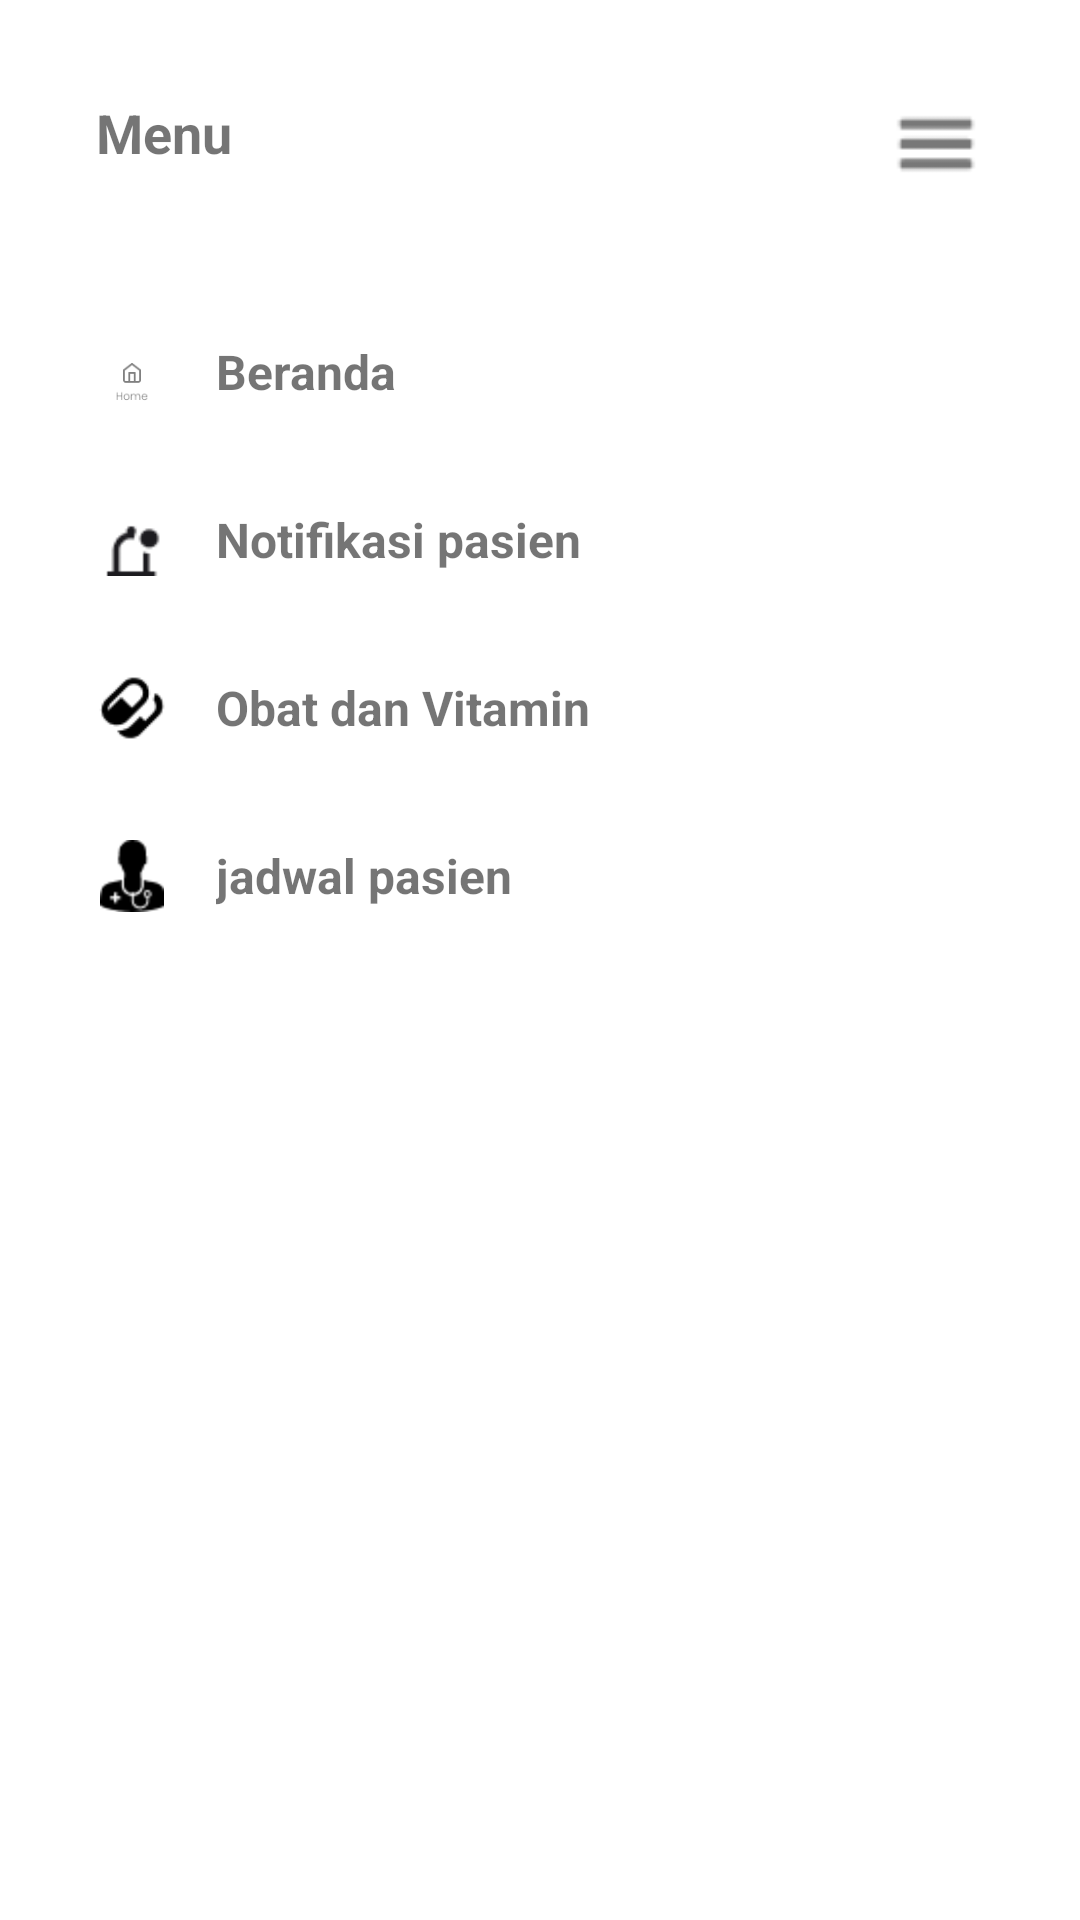

Icons on this 1080×1920 Android screen, each with its box as bbox=[x1, y1, x2, y2]:
list: bbox=[898, 117, 974, 171]
medicine: bbox=[101, 677, 164, 739]
